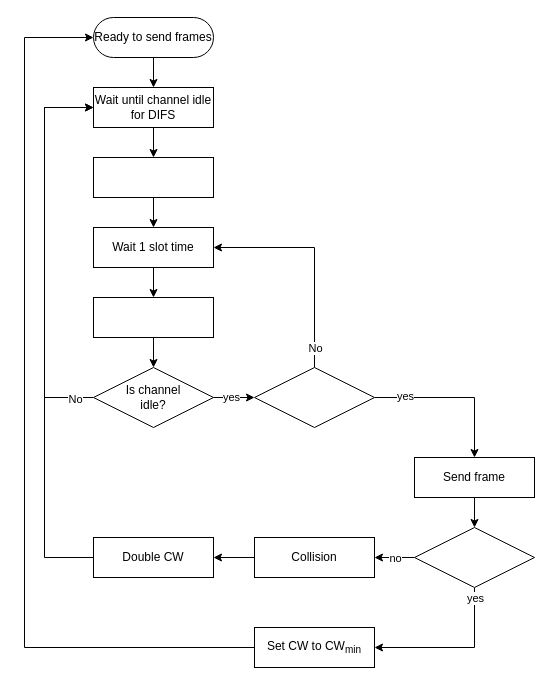
Some shapes in this 552 by 685 pixel diagram are drawn without their labels. Each missing label, with the box of its shape:
Decrement backoff: (92, 296, 214, 338)
Initialize backoff: (92, 156, 214, 198)
Is backoff zero?: (254, 366, 374, 428)
Is TX successful?: (414, 526, 534, 588)
